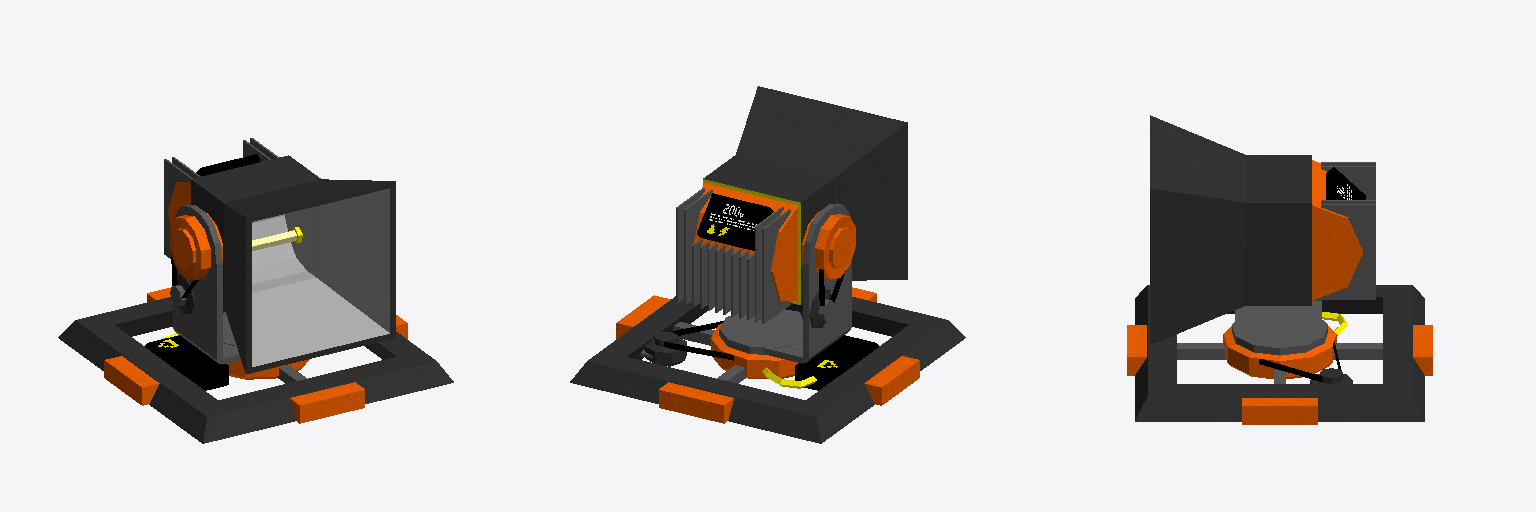
The picture shows the model from 3 angles: view 1: azimuth 30°, elevation 25°; view 2: azimuth 150°, elevation 25°; view 3: azimuth 270°, elevation 25°; orthographic projection.
Visible parts, largest first — view 1: Lamp_Head_Cylinder.004, Lamp_Base_Cube.008, Lamp_Swivel_Cube.014; view 2: Lamp_Head_Cylinder.004, Lamp_Base_Cube.008, Lamp_Swivel_Cube.014; view 3: Lamp_Head_Cylinder.004, Lamp_Base_Cube.008, Lamp_Swivel_Cube.014.
Part boxes in pixels (x1,y1,x2,y2): Lamp_Head_Cylinder.004: (164,138,395,374); Lamp_Base_Cube.008: (58,288,453,443); Lamp_Swivel_Cube.014: (170,204,309,379); Lamp_Head_Cylinder.004: (676,86,907,323); Lamp_Base_Cube.008: (570,287,965,443); Lamp_Swivel_Cube.014: (711,203,851,378); Lamp_Head_Cylinder.004: (1150,115,1375,344); Lamp_Base_Cube.008: (1127,285,1432,424); Lamp_Swivel_Cube.014: (1223,298,1336,378).
Bounding box in the file's own units: 1.05 × 0.791 × 1.05.
Materials: 4 (1 with a texture image).